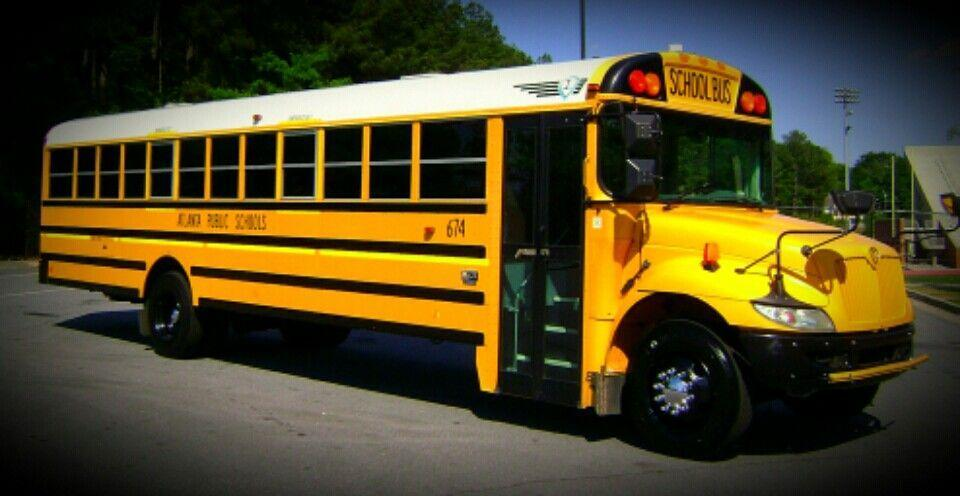Bus: (36, 47, 927, 463)
